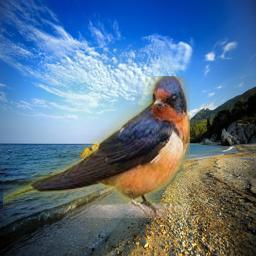Swallow: (3, 76, 190, 218)
